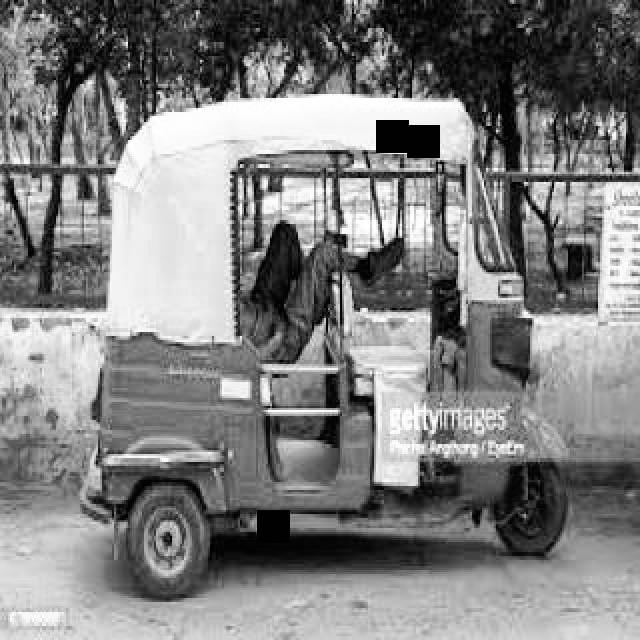Auto-Rickshaw: (66, 104, 596, 580)
